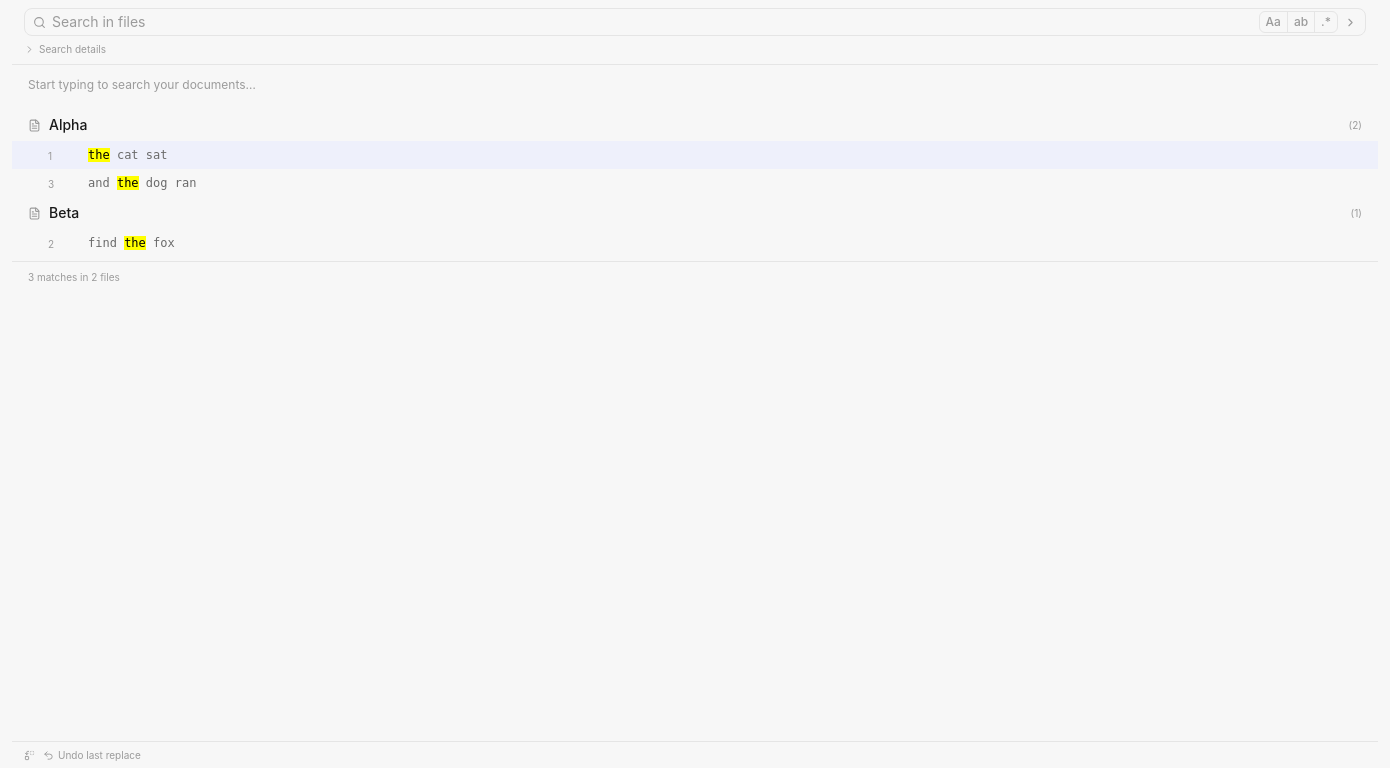
it: SidebarSearch (Search view) › disables the scope fields when there is no workspace root
Click the button with test id "search-toggle-details" at (65, 49), box 24,42 -> 106,56
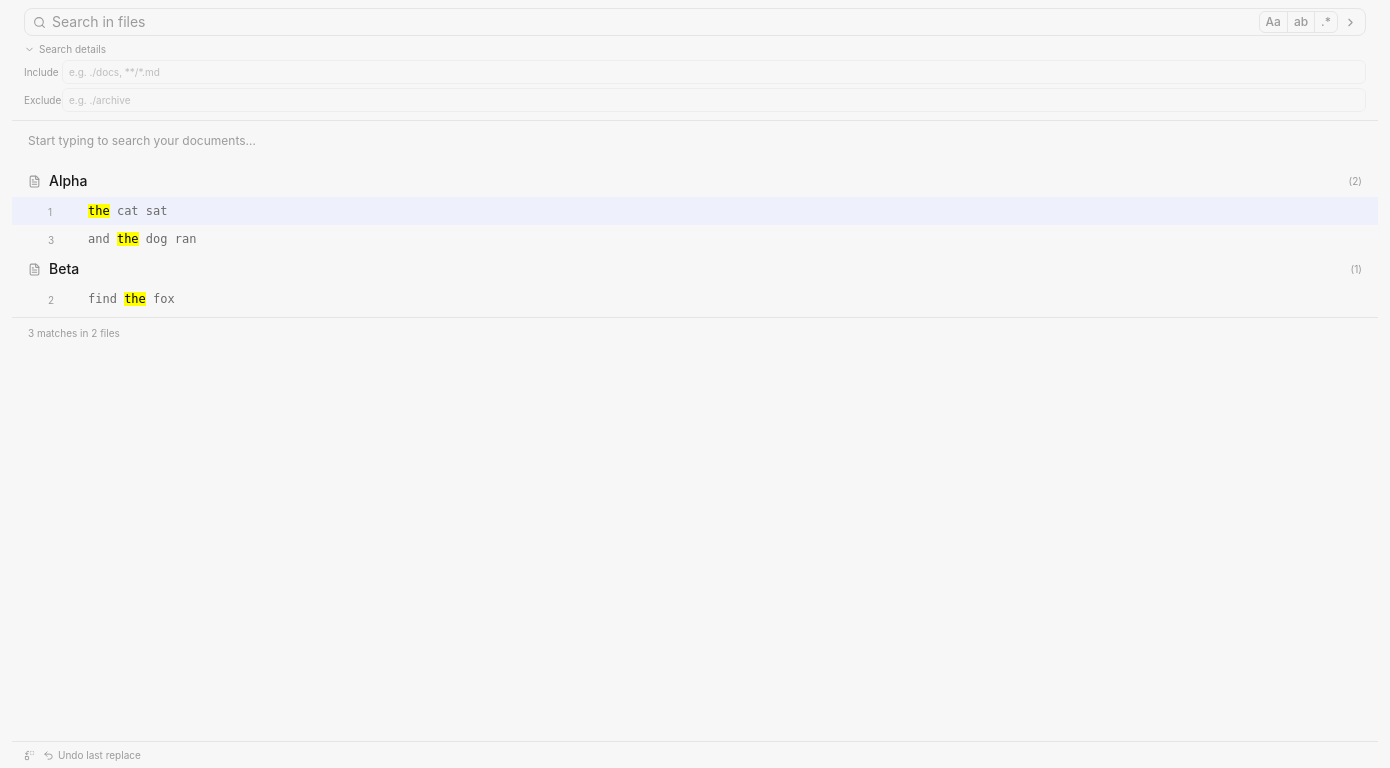
Result: the field with test id "search-include" is disabled at 62,60 -> 1366,84
